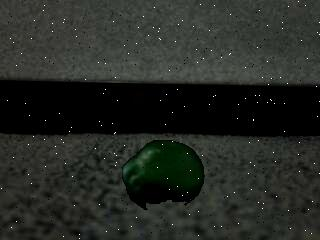Lime: (119, 136, 206, 212)
